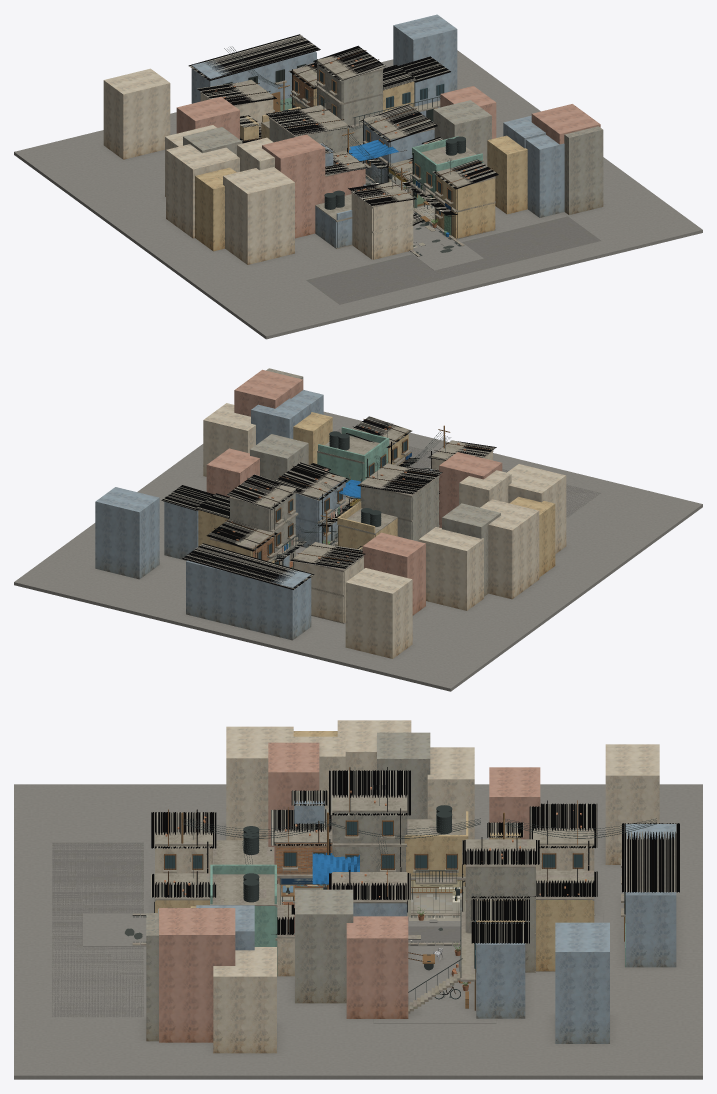
Rendered from environment.glb.
3 renders of one model, top to bottom at view 1: azimuth 30°, elevation 25°; view 2: azimuth 150°, elevation 25°; view 3: azimuth 270°, elevation 25°, orthographic. The views are drawn at different scales.
Visible parts, largest first — view 1: Lane concrete • repairs and aggregate batch 0, Plaster • chalk batch 0, Plaster • blue wash batch 0, Galvanized roofing with patina batch 0, Plaster • cement batch 0, Plaster • ochre batch 0, Plaster • rose wash batch 0, Old concrete batch 0, Old painted black metal batch 0, Rust brown steel batch 0, Plaster • faded turquoise batch 0, Dusty dark window glass batch 0 (+3 smaller); view 2: Lane concrete • repairs and aggregate batch 0, Plaster • chalk batch 0, Plaster • blue wash batch 0, Galvanized roofing with patina batch 0, Plaster • rose wash batch 0, Plaster • cement batch 0, Old concrete batch 0, Plaster • ochre batch 0, Old painted black metal batch 0, Plaster • faded turquoise batch 0, Rust brown steel batch 0; view 3: Lane concrete • repairs and aggregate batch 0, Plaster • chalk batch 0, Plaster • rose wash batch 0, Galvanized roofing with patina batch 0, Plaster • blue wash batch 0, Plaster • cement batch 0, Old concrete batch 0, Plaster • ochre batch 0, Old painted black metal batch 0, Plaster • faded turquoise batch 0, Rust brown steel batch 0, Dusty dark window glass batch 0 (+4 smaller).
Boxes of the visible parts, x1,y1,x2,y2 form: Lane concrete • repairs and aggregate batch 0: (14, 50, 702, 339); Plaster • chalk batch 0: (103, 68, 413, 264); Plaster • blue wash batch 0: (191, 14, 564, 248); Galvanized roofing with patina batch 0: (188, 34, 498, 225); Plaster • cement batch 0: (183, 62, 603, 214); Plaster • ochre batch 0: (195, 72, 527, 251); Plaster • rose wash batch 0: (176, 86, 600, 238); Old concrete batch 0: (200, 55, 495, 259); Old painted black metal batch 0: (224, 46, 465, 255); Rust brown steel batch 0: (204, 50, 492, 225); Plaster • faded turquoise batch 0: (280, 97, 483, 207); Dusty dark window glass batch 0: (295, 72, 451, 214); Lane concrete • repairs and aggregate batch 0: (14, 411, 702, 691); Plaster • chalk batch 0: (203, 403, 566, 658); Plaster • blue wash batch 0: (95, 390, 434, 640); Galvanized roofing with patina batch 0: (161, 416, 496, 589); Plaster • rose wash batch 0: (206, 369, 502, 615); Plaster • cement batch 0: (230, 368, 500, 596); Old concrete batch 0: (210, 425, 493, 623); Plaster • ochre batch 0: (198, 412, 555, 577); Old painted black metal batch 0: (255, 422, 450, 563); Plaster • faded turquoise batch 0: (317, 427, 389, 482); Rust brown steel batch 0: (214, 419, 490, 564); Lane concrete • repairs and aggregate batch 0: (14, 784, 702, 1079); Plaster • chalk batch 0: (155, 720, 659, 1053); Plaster • rose wash batch 0: (159, 742, 540, 1042); Galvanized roofing with patina batch 0: (151, 770, 679, 943); Plaster • blue wash batch 0: (158, 800, 676, 1043); Plaster • cement batch 0: (146, 732, 535, 1041); Old concrete batch 0: (132, 795, 625, 1013); Plaster • ochre batch 0: (155, 731, 594, 971); Old painted black metal batch 0: (133, 785, 656, 999); Plaster • faded turquoise batch 0: (210, 864, 625, 976); Rust brown steel batch 0: (164, 767, 583, 994); Dusty dark window glass batch 0: (165, 822, 582, 968).
Bounding box in the file's own units: 45 × 9.44 × 45.
54 materials, 32 textured.
